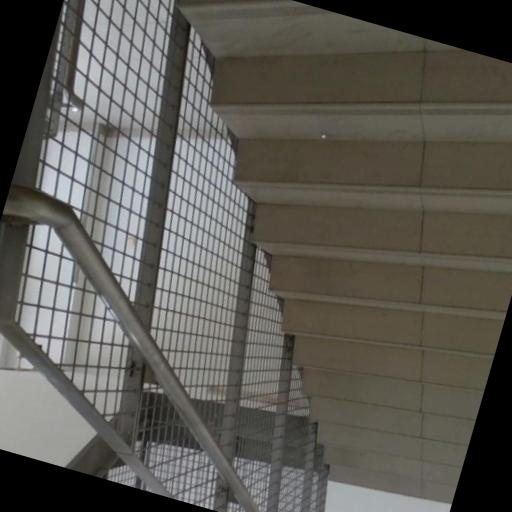stairs: (180, 0, 511, 501)
